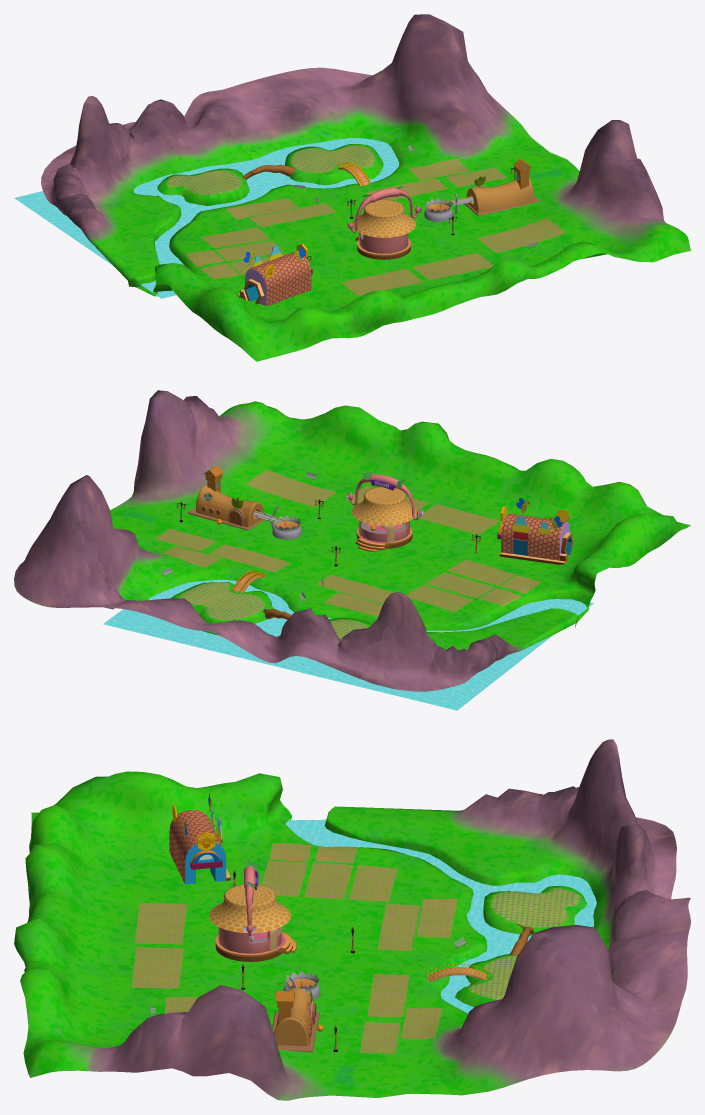
The model's file is bee_envmnt.fbx.
3 renders of one model, top to bottom at view 1: azimuth 30°, elevation 25°; view 2: azimuth 150°, elevation 25°; view 3: azimuth 270°, elevation 25°, orthographic. The views are drawn at different scales.
Parts seen in each view (by area): view 1: ground, water, exterior (×2), pCylinder2, polySurface26, polySurface5; view 2: ground, water, exterior (×2), pCylinder2, pCylinder3, polySurface5; view 3: ground, water, exterior (×2), pCylinder2, polySurface26, pCylinder3, bridge.
Boxes of the visible parts, x1,y1,x2,y2 form: ground: [41, 14, 690, 361]; water: [14, 138, 399, 298]; exterior (×2): [245, 177, 533, 305]; pCylinder2: [352, 199, 415, 237]; polySurface26: [358, 232, 408, 253]; polySurface5: [350, 188, 417, 232]; ground: [14, 390, 690, 691]; water: [103, 580, 593, 710]; exterior (×2): [196, 485, 570, 560]; pCylinder2: [352, 486, 417, 525]; pCylinder3: [355, 523, 412, 552]; polySurface5: [350, 474, 419, 520]; ground: [14, 739, 690, 1100]; water: [285, 819, 596, 1013]; exterior (×2): [169, 810, 312, 1045]; pCylinder2: [209, 884, 291, 933]; polySurface26: [218, 927, 279, 953]; pCylinder3: [215, 931, 296, 961]; bridge: [426, 963, 490, 982].
Bounding box in the file's own units: 7832 × 1860 × 7744.
